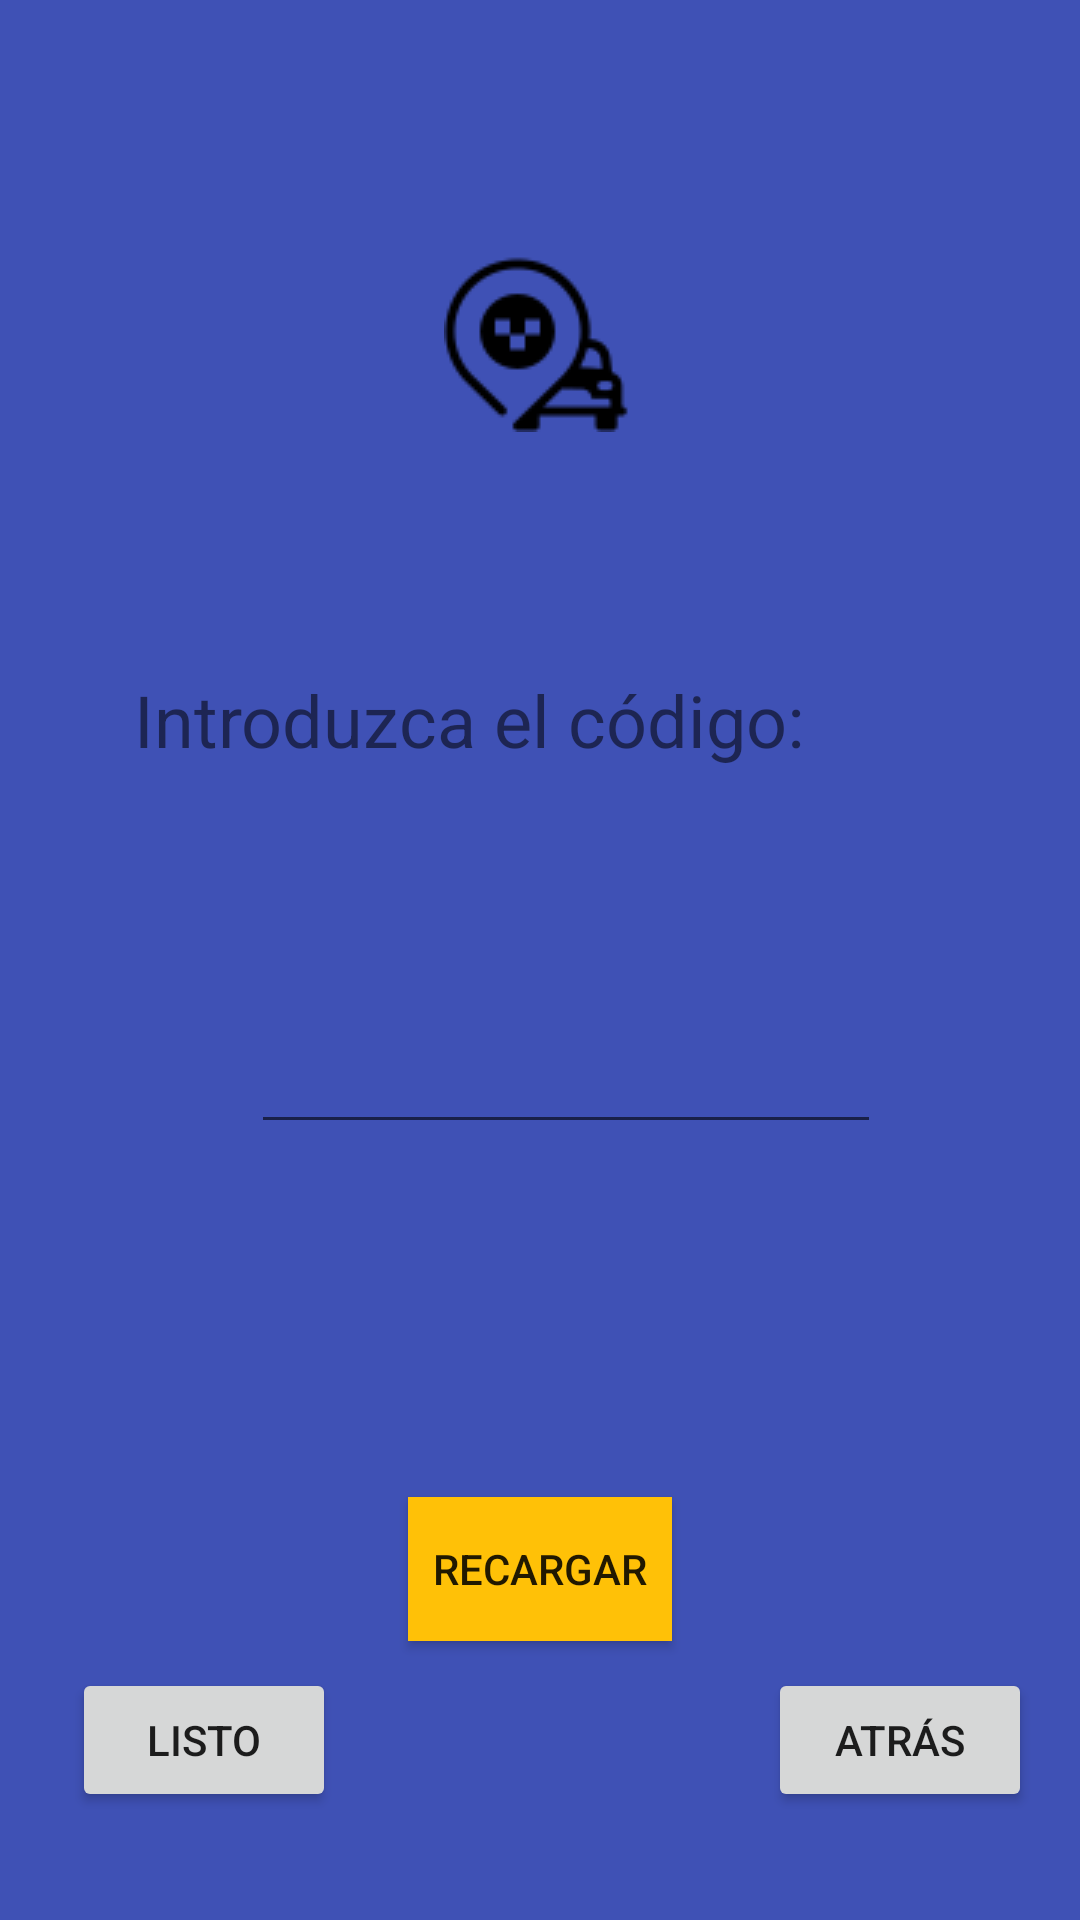

Screen size 1080px×1920px. Icon name, then its center in pixels as (x,y):
taxi rank: (536,344)
